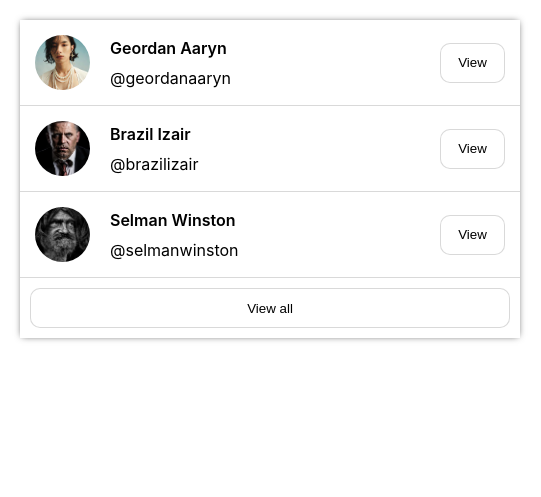
Scenario: closes details window
Click the button "View" in the row of "@geordanaaryn" at [472, 62], box x1=440 y1=42 x2=505 y2=82
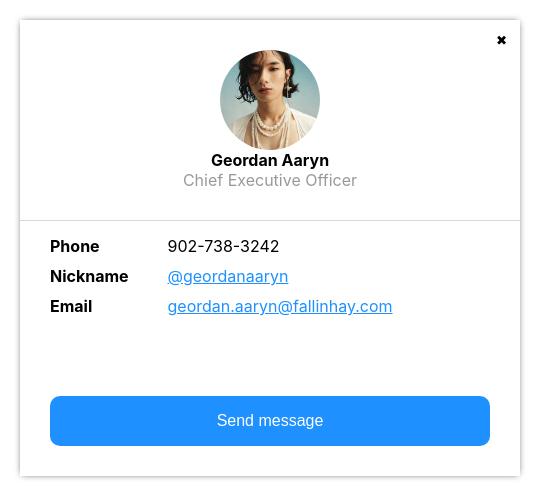
Expected: the text "902-738-3242" is shown, x1=168 y1=236 x2=280 y2=256
Click the button "✖" at [500, 40], box x1=490 y1=30 x2=510 y2=50
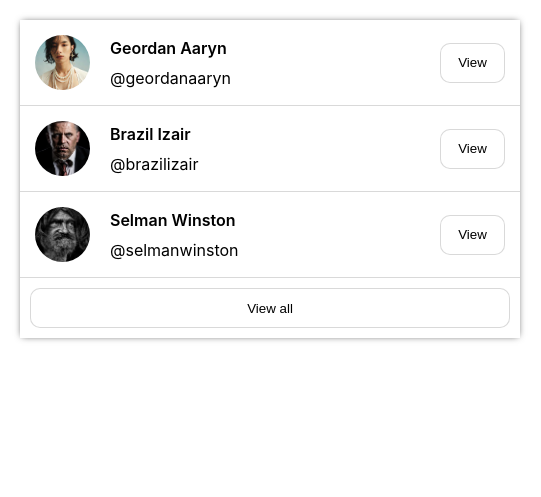
Expected: the text "902-738-3242" is gone
